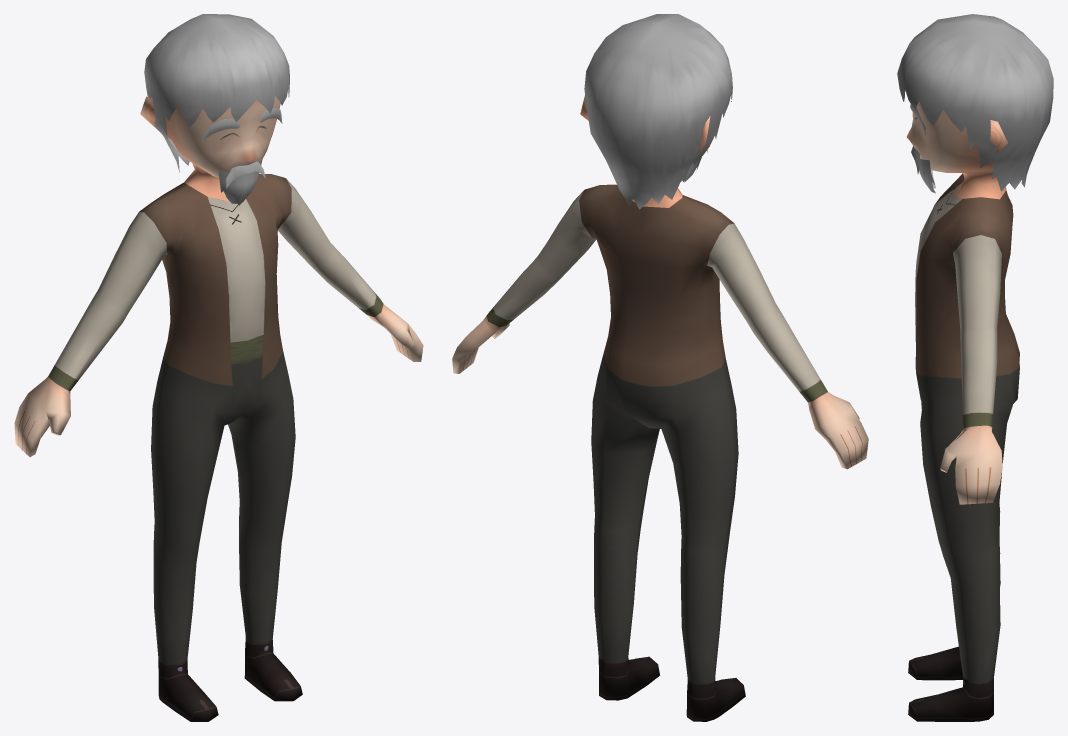
The picture shows the model from 3 angles, left to right: view 1: azimuth 30°, elevation 25°; view 2: azimuth 150°, elevation 25°; view 3: azimuth 270°, elevation 25°; orthographic projection.
Parts seen in each view (by area): view 1: Peasant Elder Halden, Beard; view 2: Peasant Elder Halden; view 3: Peasant Elder Halden, Beard.
Part boxes in pixels (x1,y1,x2,y2): Peasant Elder Halden: (14, 14, 423, 721); Beard: (218, 158, 262, 205); Peasant Elder Halden: (452, 14, 868, 721); Peasant Elder Halden: (897, 14, 1053, 721); Beard: (919, 159, 935, 193).
Size of the model in its own units: 105 by 171 by 36.12.
